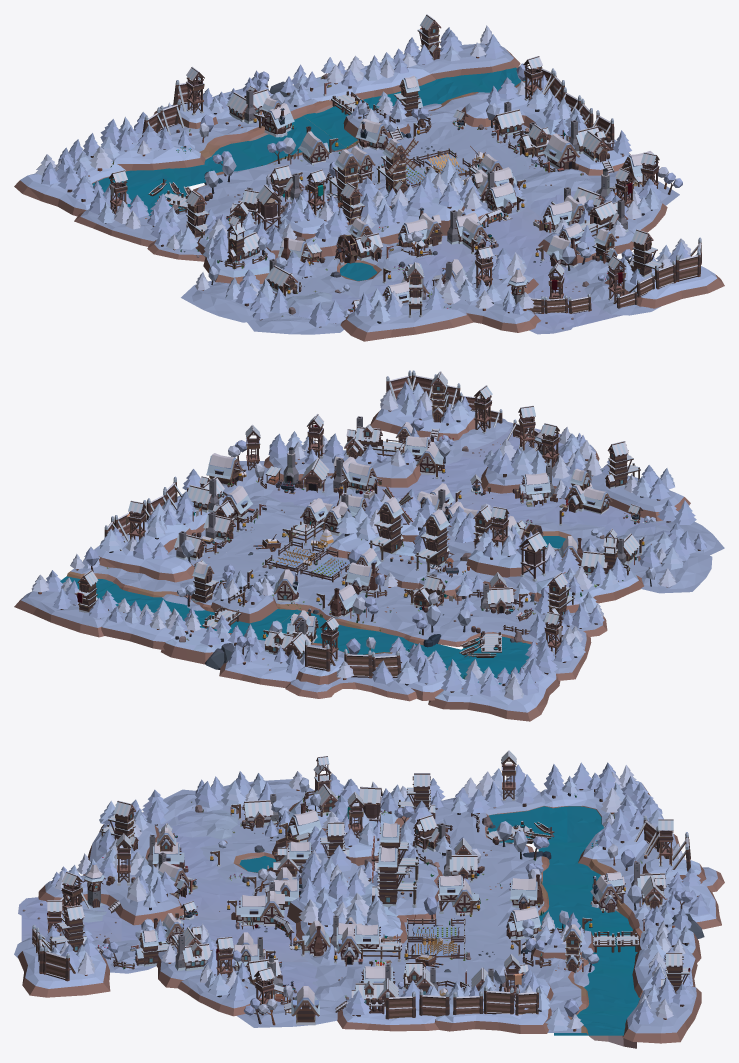
Rendered from River_Snow.glb.
The picture shows the model from 3 angles, top to bottom: view 1: azimuth 30°, elevation 25°; view 2: azimuth 150°, elevation 25°; view 3: azimuth 270°, elevation 25°; orthographic projection. The views are drawn at different scales.
Visible parts, largest first — view 1: TB_Env_Mound_Med_A (1), TB_Bd_House (×4), TB_Env_Tile_Grass_A (7), TB_Env_Mound_Corner_A, TB_Env_Mound_Corner_B, TB_Env_Mound_Med_B (1), TB_Env_Mound_Med_B (5), TB_Env_Mound_Med_A (2), TB_Env_Tile_Dirt_A (9), TB_Env_Lake, TB_Env_LowMound_A (2), TB_Env_Tile_Water_A (2) (+54 smaller); view 2: TB_Env_Mound_Corner_B, TB_Env_Mound_Corner_B (1), TB_Bd_Wood_Tall (×3), TB_Env_Mound_Corner_A (2), TB_Env_Mound_Med_A (2), TB_Env_Mound_Corner_A (3), TB_Bd_House_Open (×3), TB_Env_Mound_Med_B (5), TB_Env_Tile_Grass_A (5), TB_Env_Lakeside_B (1), TB_Env_Mound_Med_B (2), TB_Env_LowMound_A (8) (+48 smaller); view 3: TB_Env_Mound_Med_B (5), TB_Env_Mound_Corner_B (1), TB_Env_Mound_Corner_A, TB_Env_Mound_Med_A (2), TB_Bd_House (×4), TB_Env_Tile_Water_A (2), TB_Env_Tile_Grass_A (7), TB_Env_Tile_Water_A (9), TB_Bd_Wood_Tall (×3), TB_Env_Tile_Grass_A (6), TB_Env_Mound_Corner_A (2), TB_Env_Tile_Water_A (4) (+72 smaller).
Part boxes in pixels (x1=…): TB_Env_Mound_Med_A (1): x1=340, y1=299, x2=473, y2=341; TB_Bd_House (×4): x1=261, y1=103, x2=516, y2=210; TB_Env_Tile_Grass_A (7): x1=387, y1=118, x2=494, y2=163; TB_Env_Mound_Corner_A: x1=452, y1=274, x2=540, y2=332; TB_Env_Mound_Corner_B: x1=14, y1=155, x2=126, y2=216; TB_Env_Mound_Med_B (1): x1=111, y1=138, x2=205, y2=170; TB_Env_Mound_Med_B (5): x1=604, y1=266, x2=724, y2=308; TB_Env_Mound_Med_A (2): x1=413, y1=43, x2=520, y2=79; TB_Env_Tile_Dirt_A (9): x1=483, y1=207, x2=550, y2=254; TB_Env_Lake: x1=305, y1=255, x2=407, y2=297; TB_Env_LowMound_A (2): x1=514, y1=168, x2=595, y2=201; TB_Env_Tile_Water_A (2): x1=232, y1=116, x2=345, y2=165; TB_Env_Mound_Corner_B: x1=428, y1=672, x2=560, y2=721; TB_Env_Mound_Corner_B (1): x1=94, y1=518, x2=194, y2=582; TB_Bd_Wood_Tall (×3): x1=369, y1=454, x2=640, y2=574; TB_Env_Mound_Corner_A (2): x1=433, y1=606, x2=539, y2=646; TB_Env_Mound_Med_A (2): x1=14, y1=591, x2=112, y2=637; TB_Env_Mound_Corner_A (3): x1=285, y1=655, x2=417, y2=701; TB_Bd_House_Open (×3): x1=221, y1=461, x2=550, y2=522; TB_Env_Mound_Med_B (5): x1=370, y1=400, x2=478, y2=440; TB_Env_Tile_Grass_A (5): x1=226, y1=527, x2=334, y2=572; TB_Env_Lakeside_B (1): x1=345, y1=608, x2=445, y2=645; TB_Env_Mound_Med_B (2): x1=219, y1=649, x2=304, y2=687; TB_Env_LowMound_A (8): x1=637, y1=553, x2=712, y2=593; TB_Env_Mound_Med_B (5): x1=17, y1=943, x2=110, y2=997; TB_Env_Mound_Corner_B (1): x1=434, y1=978, x2=553, y2=1033; TB_Env_Mound_Corner_A: x1=38, y1=864, x2=183, y2=925; TB_Env_Mound_Med_A (2): x1=622, y1=985, x2=701, y2=1043; TB_Bd_House (×4): x1=260, y1=875, x2=621, y2=939; TB_Env_Tile_Water_A (2): x1=539, y1=885, x2=630, y2=927; TB_Env_Tile_Grass_A (7): x1=458, y1=939, x2=553, y2=981; TB_Env_Tile_Water_A (9): x1=581, y1=969, x2=639, y2=1011; TB_Bd_Wood_Tall (×3): x1=49, y1=814, x2=416, y2=952; TB_Env_Tile_Grass_A (6): x1=404, y1=897, x2=497, y2=939; TB_Env_Mound_Corner_A (2): x1=442, y1=811, x2=533, y2=858; TB_Env_Tile_Water_A (4): x1=538, y1=842, x2=600, y2=884.
Size of the model in its own units: 124 by 19.21 by 142.
Materials: 1 (1 with a texture image).
